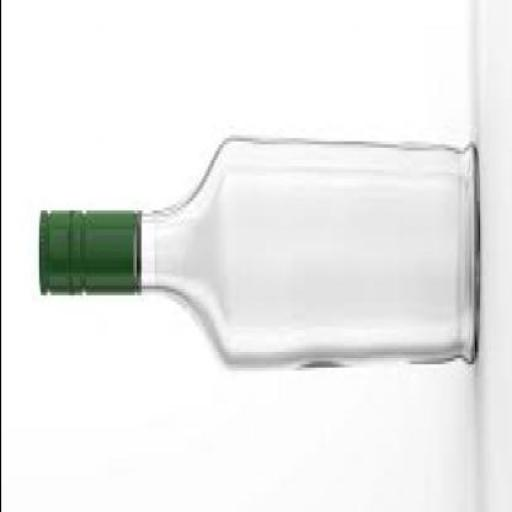glass: (136, 128, 478, 368)
metal: (36, 204, 134, 292)
